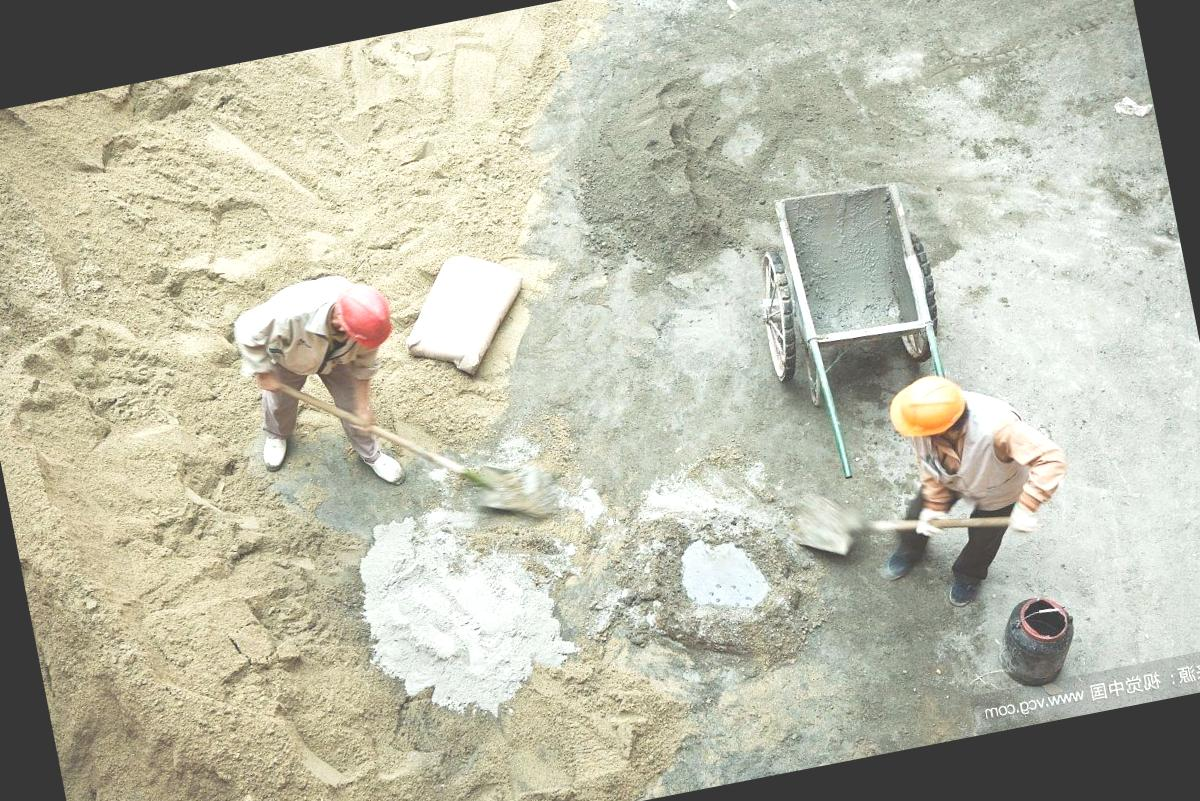helmet: (883, 363, 984, 458), (326, 270, 404, 358)
person: (839, 344, 1092, 618), (226, 264, 436, 506)
